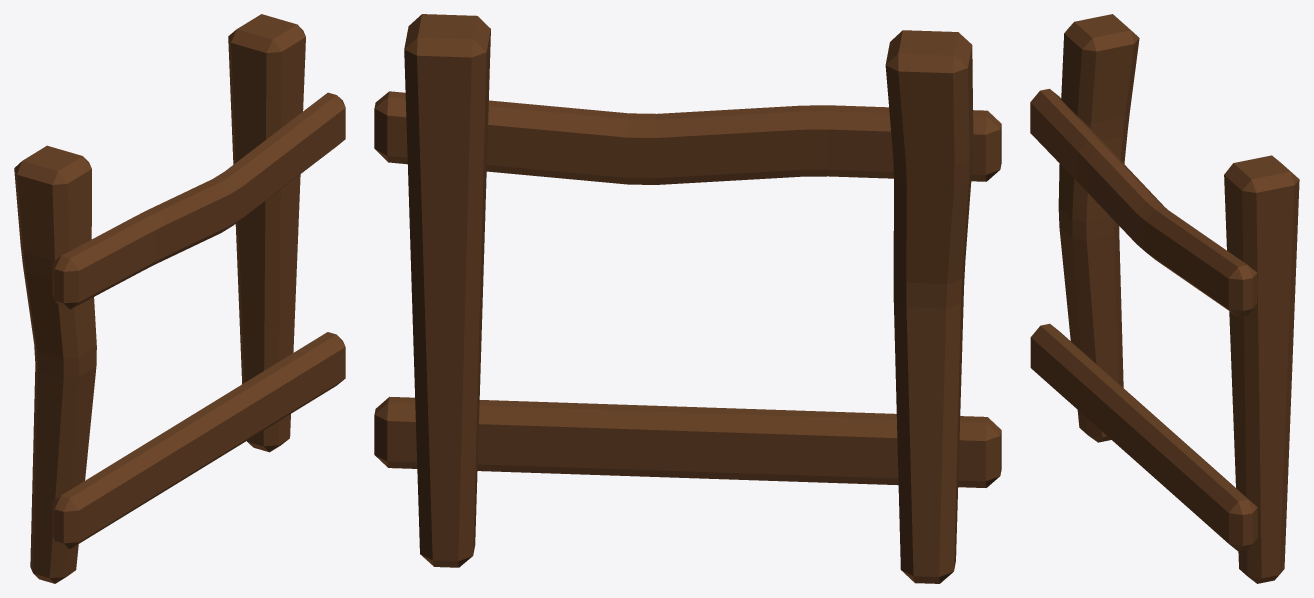
The model's file is fence2.fbx.
3 views of the same model, side by side, from view 1: azimuth 30°, elevation 25°; view 2: azimuth 150°, elevation 25°; view 3: azimuth 270°, elevation 25° (orthographic). The views are drawn at different scales.
Visible parts, largest first — view 1: Cube.036; view 2: Cube.036; view 3: Cube.036.
Boxes of the visible parts, <box> form: Cube.036: <box>14,14,345,583</box>; Cube.036: <box>374,14,1001,583</box>; Cube.036: <box>1030,14,1299,583</box>.
Size of the model in its own units: 84.08 by 85.36 by 50.64.
